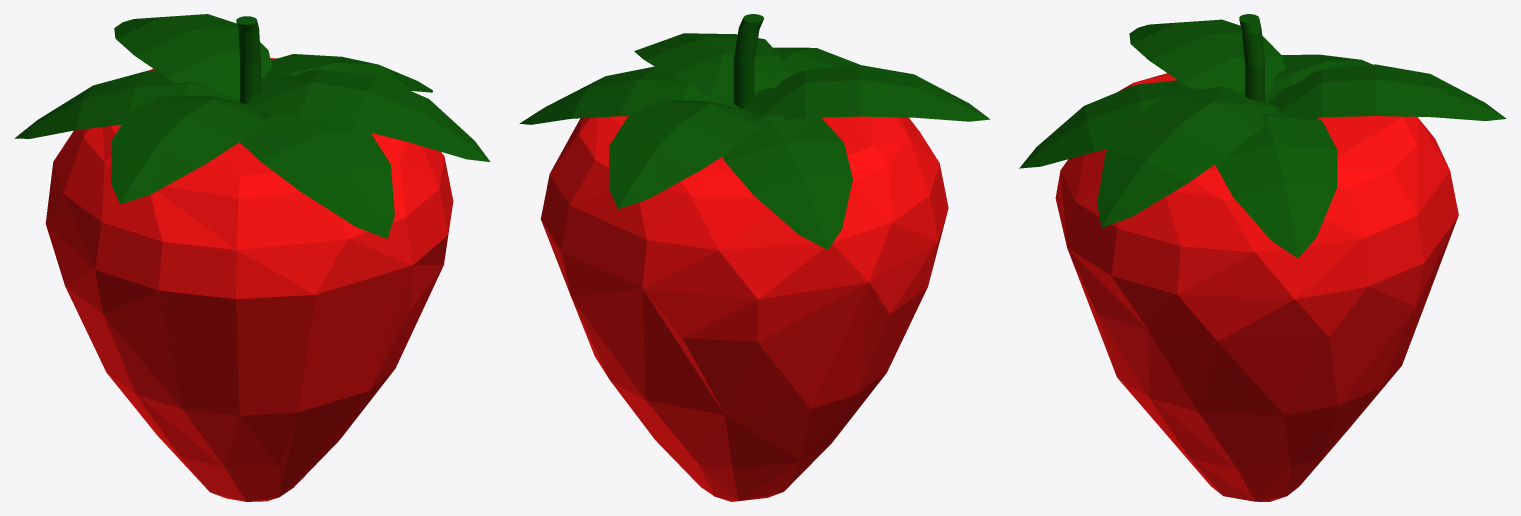
The model's file is p_Strawberry.FBX.
3 views of the same model, side by side, from view 1: azimuth 30°, elevation 25°; view 2: azimuth 150°, elevation 25°; view 3: azimuth 270°, elevation 25° (orthographic).
Parts seen in each view (by area): view 1: Strawberry; view 2: Strawberry; view 3: Strawberry.
Boxes of the visible parts, x1,y1,x2,y2 form: Strawberry: (14, 14, 490, 501); Strawberry: (519, 14, 990, 501); Strawberry: (1019, 14, 1506, 501).
Size of the model in its own units: 8.08 by 8.75 by 9.33.
